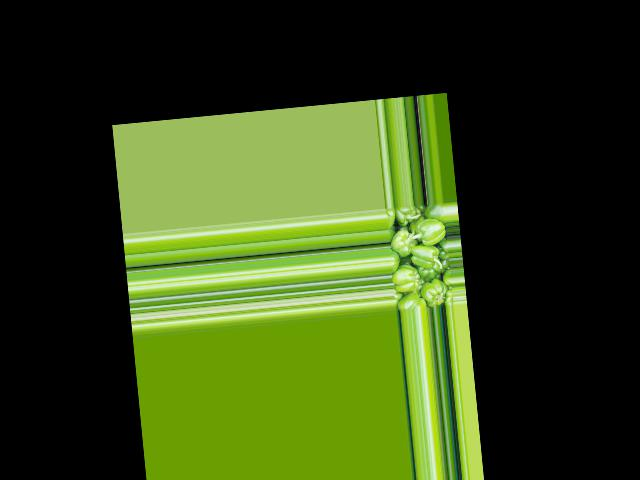bell_pepper: (424, 202, 446, 227)
